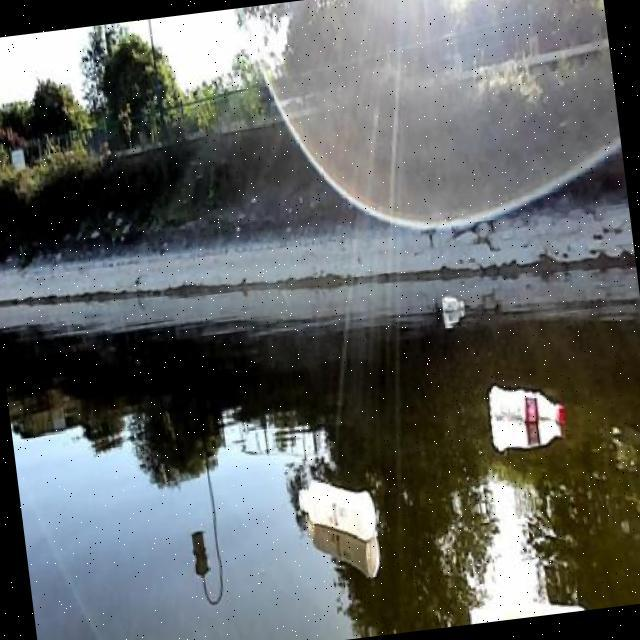Bottle: (289, 476, 385, 548), (482, 381, 572, 434)
Waste: (434, 292, 472, 321)
